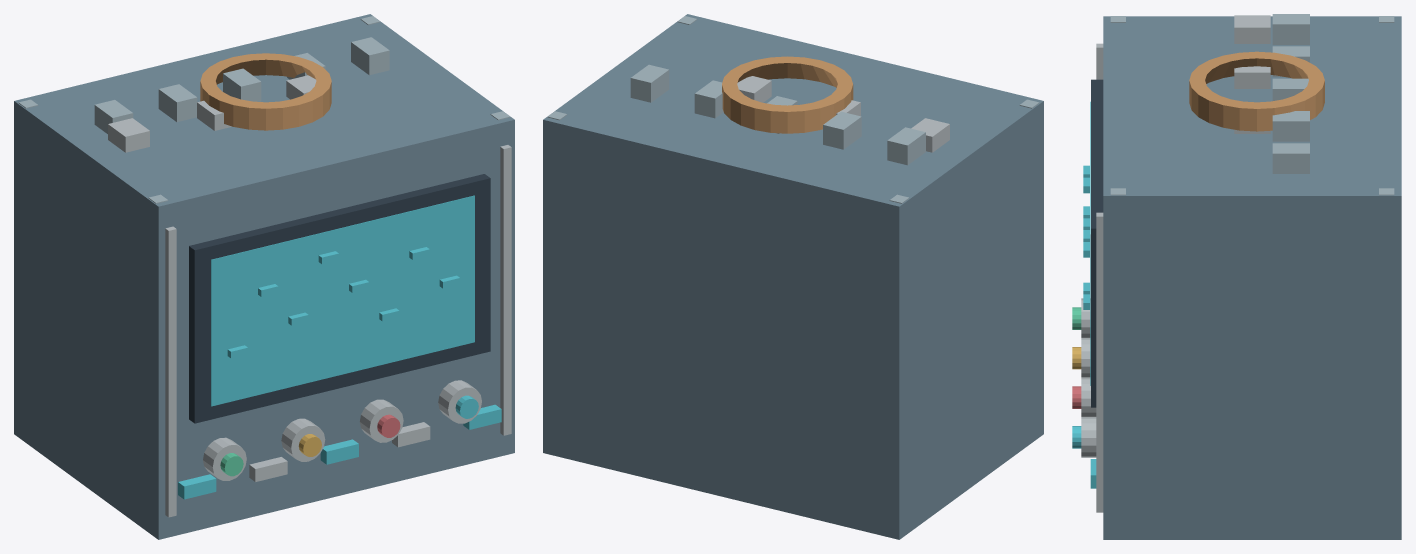
Rendered from 46_L72_VacuumPressurePIDController.glb.
The picture shows the model from 3 angles, left to right: view 1: azimuth 30°, elevation 25°; view 2: azimuth 150°, elevation 25°; view 3: azimuth 270°, elevation 25°; orthographic projection. The views are drawn at different scales.
Visible parts, largest first — view 1: VacuumPressurePIDController_Part_000, VacuumPressurePIDController_Part_008, VacuumPressurePIDController_Part_007, VacuumPressurePIDController_Part_038, VacuumPressurePIDController_Part_005, VacuumPressurePIDController_Part_006, VacuumPressurePIDController_Part_029, VacuumPressurePIDController_Part_032, VacuumPressurePIDController_Part_025, VacuumPressurePIDController_Part_021, VacuumPressurePIDController_Part_023, VacuumPressurePIDController_Part_019 (+8 smaller); view 2: VacuumPressurePIDController_Part_000, VacuumPressurePIDController_Part_038, VacuumPressurePIDController_Part_032, VacuumPressurePIDController_Part_028, VacuumPressurePIDController_Part_029, VacuumPressurePIDController_Part_031, VacuumPressurePIDController_Part_025, VacuumPressurePIDController_Part_027; view 3: VacuumPressurePIDController_Part_000, VacuumPressurePIDController_Part_038, VacuumPressurePIDController_Part_007, VacuumPressurePIDController_Part_006, VacuumPressurePIDController_Part_028, VacuumPressurePIDController_Part_032, VacuumPressurePIDController_Part_031, VacuumPressurePIDController_Part_025, VacuumPressurePIDController_Part_026, VacuumPressurePIDController_Part_030, VacuumPressurePIDController_Part_023, VacuumPressurePIDController_Part_021 (+2 smaller).
Boxes of the visible parts, bbox=[...] form: VacuumPressurePIDController_Part_000: bbox=[14, 14, 514, 539]; VacuumPressurePIDController_Part_008: bbox=[211, 195, 474, 406]; VacuumPressurePIDController_Part_007: bbox=[189, 174, 490, 423]; VacuumPressurePIDController_Part_038: bbox=[200, 53, 331, 130]; VacuumPressurePIDController_Part_005: bbox=[165, 226, 176, 517]; VacuumPressurePIDController_Part_006: bbox=[500, 145, 511, 435]; VacuumPressurePIDController_Part_029: bbox=[158, 84, 197, 121]; VacuumPressurePIDController_Part_032: bbox=[351, 37, 389, 75]; VacuumPressurePIDController_Part_025: bbox=[108, 118, 149, 152]; VacuumPressurePIDController_Part_021: bbox=[359, 399, 403, 442]; VacuumPressurePIDController_Part_023: bbox=[438, 380, 481, 423]; VacuumPressurePIDController_Part_019: bbox=[281, 418, 325, 461]; VacuumPressurePIDController_Part_000: bbox=[543, 14, 1043, 539]; VacuumPressurePIDController_Part_038: bbox=[722, 56, 853, 133]; VacuumPressurePIDController_Part_032: bbox=[630, 64, 669, 102]; VacuumPressurePIDController_Part_028: bbox=[887, 127, 925, 165]; VacuumPressurePIDController_Part_029: bbox=[823, 111, 861, 149]; VacuumPressurePIDController_Part_031: bbox=[694, 80, 723, 118]; VacuumPressurePIDController_Part_025: bbox=[911, 118, 949, 152]; VacuumPressurePIDController_Part_027: bbox=[737, 76, 771, 102]; VacuumPressurePIDController_Part_000: bbox=[1103, 16, 1401, 539]; VacuumPressurePIDController_Part_038: bbox=[1189, 51, 1324, 131]; VacuumPressurePIDController_Part_007: bbox=[1091, 79, 1103, 407]; VacuumPressurePIDController_Part_006: bbox=[1096, 212, 1103, 512]; VacuumPressurePIDController_Part_028: bbox=[1272, 14, 1309, 44]; VacuumPressurePIDController_Part_032: bbox=[1272, 143, 1309, 173]; VacuumPressurePIDController_Part_031: bbox=[1272, 111, 1309, 141]; VacuumPressurePIDController_Part_025: bbox=[1234, 15, 1270, 43]; VacuumPressurePIDController_Part_026: bbox=[1234, 66, 1270, 88]; VacuumPressurePIDController_Part_030: bbox=[1272, 78, 1308, 100]; VacuumPressurePIDController_Part_023: bbox=[1081, 417, 1096, 457]; VacuumPressurePIDController_Part_021: bbox=[1081, 377, 1096, 416].
Size of the model in its own units: 0.94 by 0.9075 by 0.7289.
